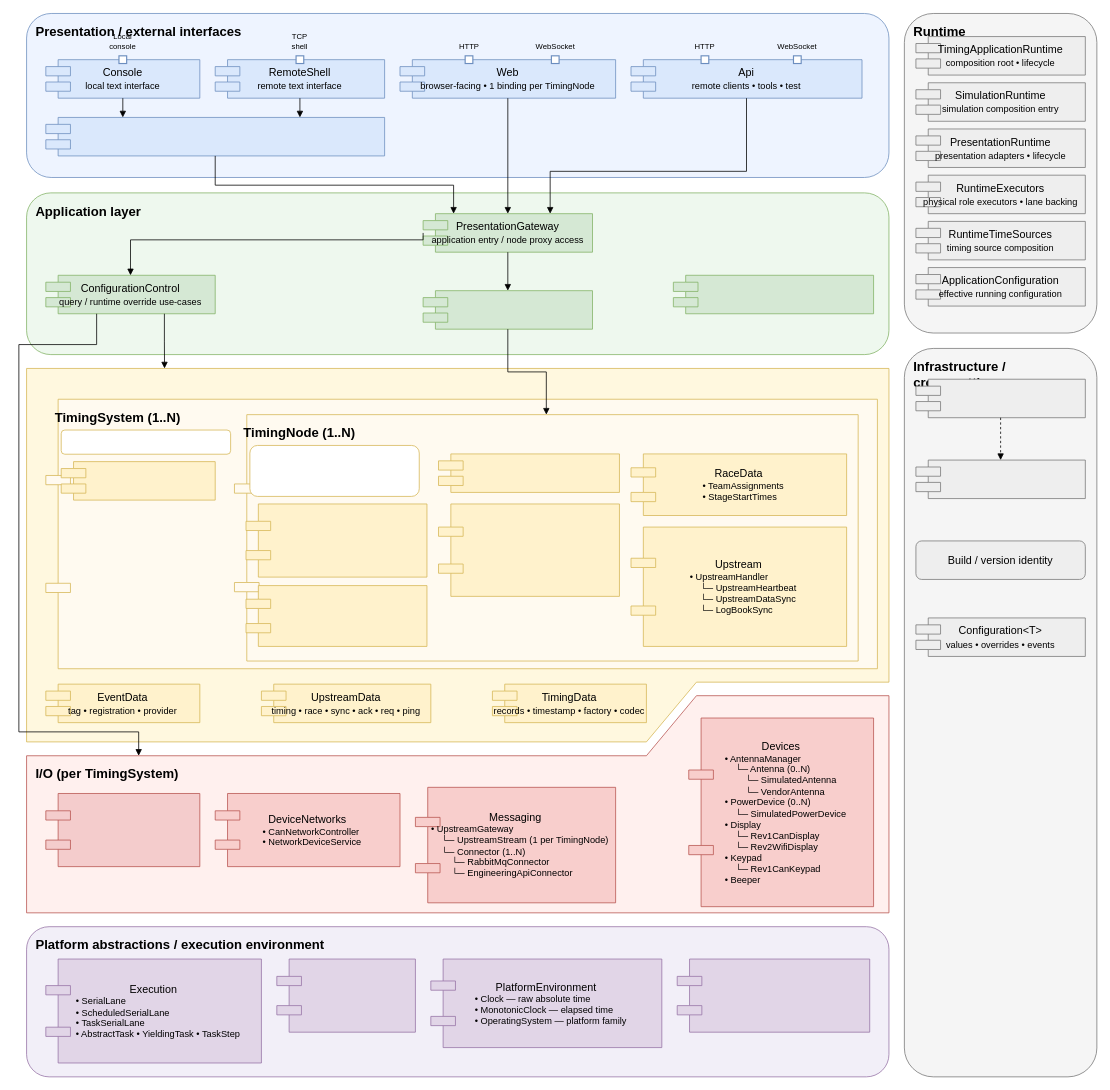
The diagram is 1110 pixels wide and 1090 high, and some of its shapes have lost their labels. Here are the shapes that lost their labels. From the top down, the box of each, then its label:
(45, 117, 385, 156): SharedTerminalHandler command parsing • terminal session behaviour
(422, 290, 593, 329): TimingNodeProxy (1..N) commands / queries / events
(673, 275, 874, 314): Conductor lifecycle / activation order
(915, 378, 1085, 418): LoggingServer live diagnostics • external TCP
(60, 429, 231, 454): - SystemId (internal)
(60, 461, 215, 500): Conductor system coordinator
(249, 445, 419, 496): - NodeId - LocationId - State
(438, 453, 619, 492): NextUpTeams teams expected next
(915, 459, 1085, 499): Logging levels • console • retained file
(245, 503, 427, 577): Processing • TagProcessor • TagObservationFilter • RegistrationDuplicateFilter
(26, 368, 889, 742): Domain layer
(438, 503, 619, 596): Timing • UniqueTeamRegistrations • StagePassageList • StageRanking
(245, 585, 427, 646): Data • LogBook • Persistence
(45, 793, 200, 867): Storage • AppendOnlyRecordStore └─ FileAppendOnlyRecordStore
(276, 958, 415, 1032): Events • Event<T> • EventSource<T>
(676, 958, 870, 1032): Timing time • TimeSource • ClockTimeSource
